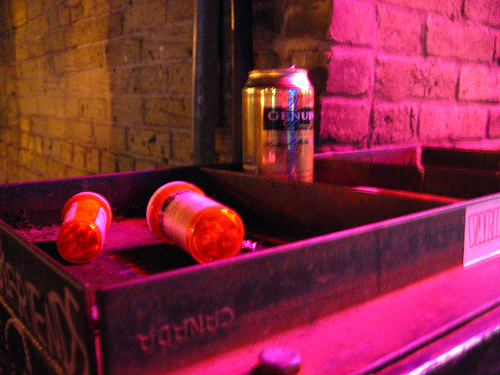pill bottle: (146, 179, 244, 266), (57, 190, 113, 264)
